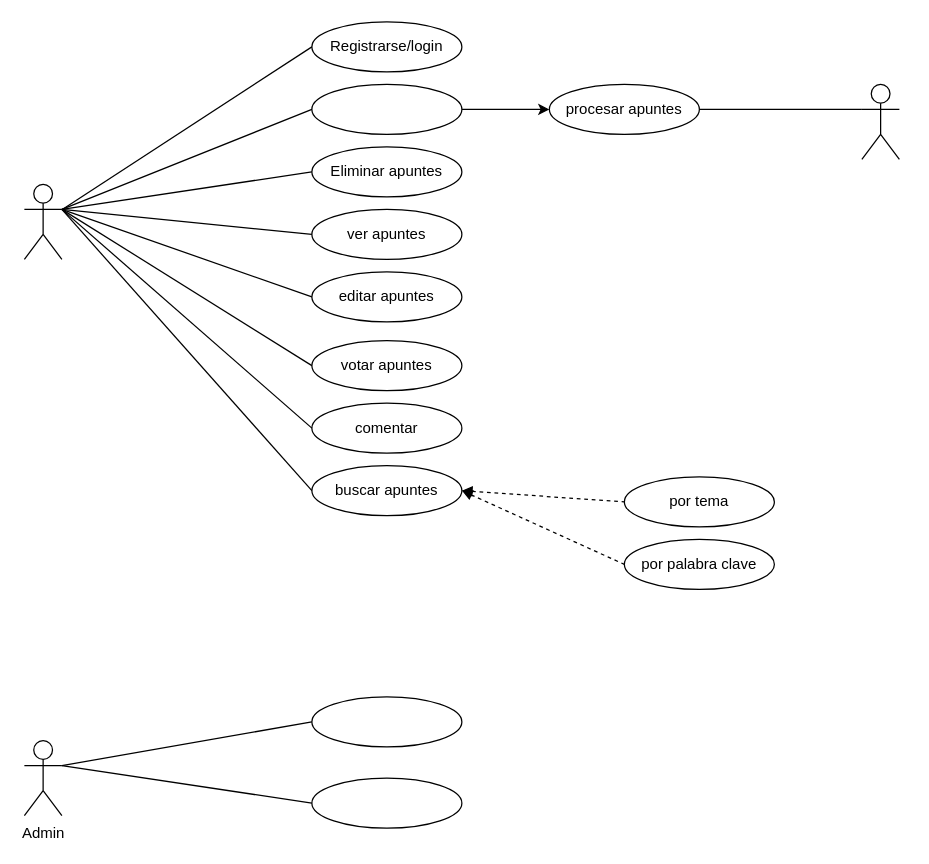
Image size: 929x864. Some labels were removed from this diagram. Each missing label, with the centre of its shape:
Buscar Usuario: the point at 386,721
Sistema: the point at 880,121
subir apuntes: the point at 386,108
User: the point at 42,221
ver usuarios: the point at 386,802
